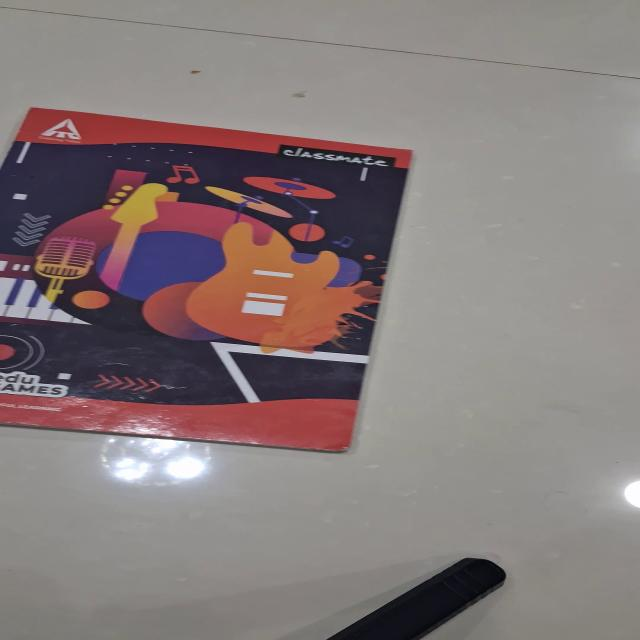paper: (1, 107, 414, 452)
